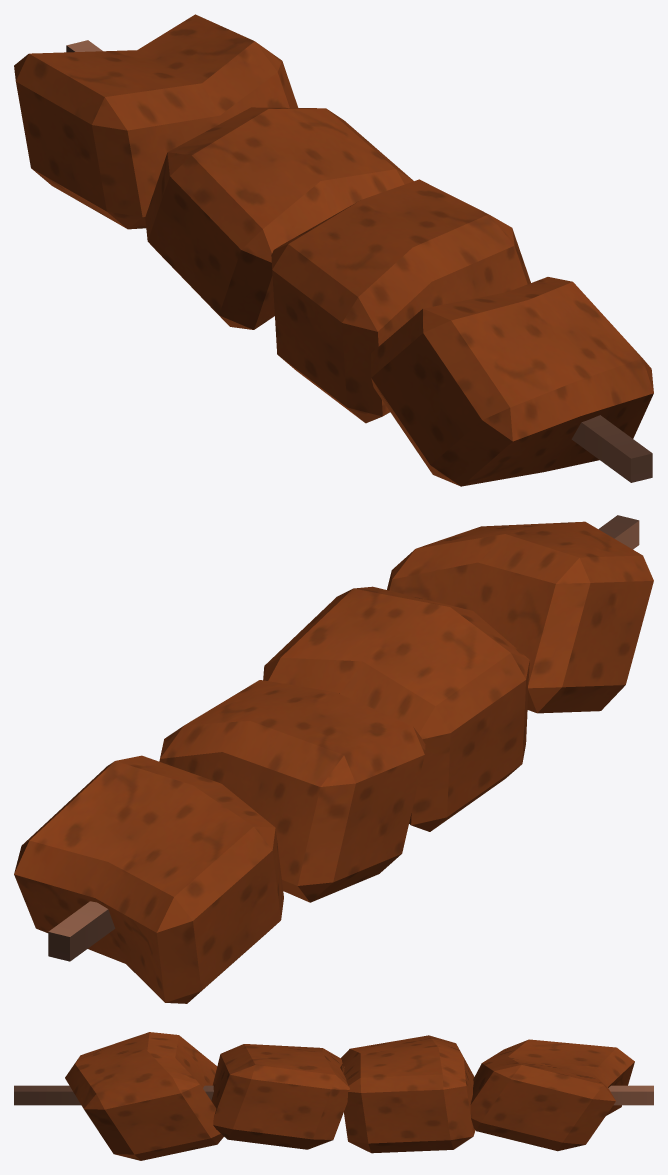
The model's file is DoubleCooked_BrochetteCooked.fbx.
The picture shows the model from 3 angles, top to bottom: view 1: azimuth 30°, elevation 25°; view 2: azimuth 150°, elevation 25°; view 3: azimuth 270°, elevation 25°; orthographic projection. The views are drawn at different scales.
Visible parts, largest first — view 1: DoubleCooked_BrochetteCooked; view 2: DoubleCooked_BrochetteCooked; view 3: DoubleCooked_BrochetteCooked.
Boxes of the visible parts, x1=… form: DoubleCooked_BrochetteCooked: x1=14, y1=14, x2=653, y2=486; DoubleCooked_BrochetteCooked: x1=14, y1=515, x2=653, y2=1003; DoubleCooked_BrochetteCooked: x1=14, y1=1032, x2=653, y2=1160.
Bounding box in the file's own units: 2.8 × 2.23 × 13.63.
Materials: 1 (1 with a texture image).
